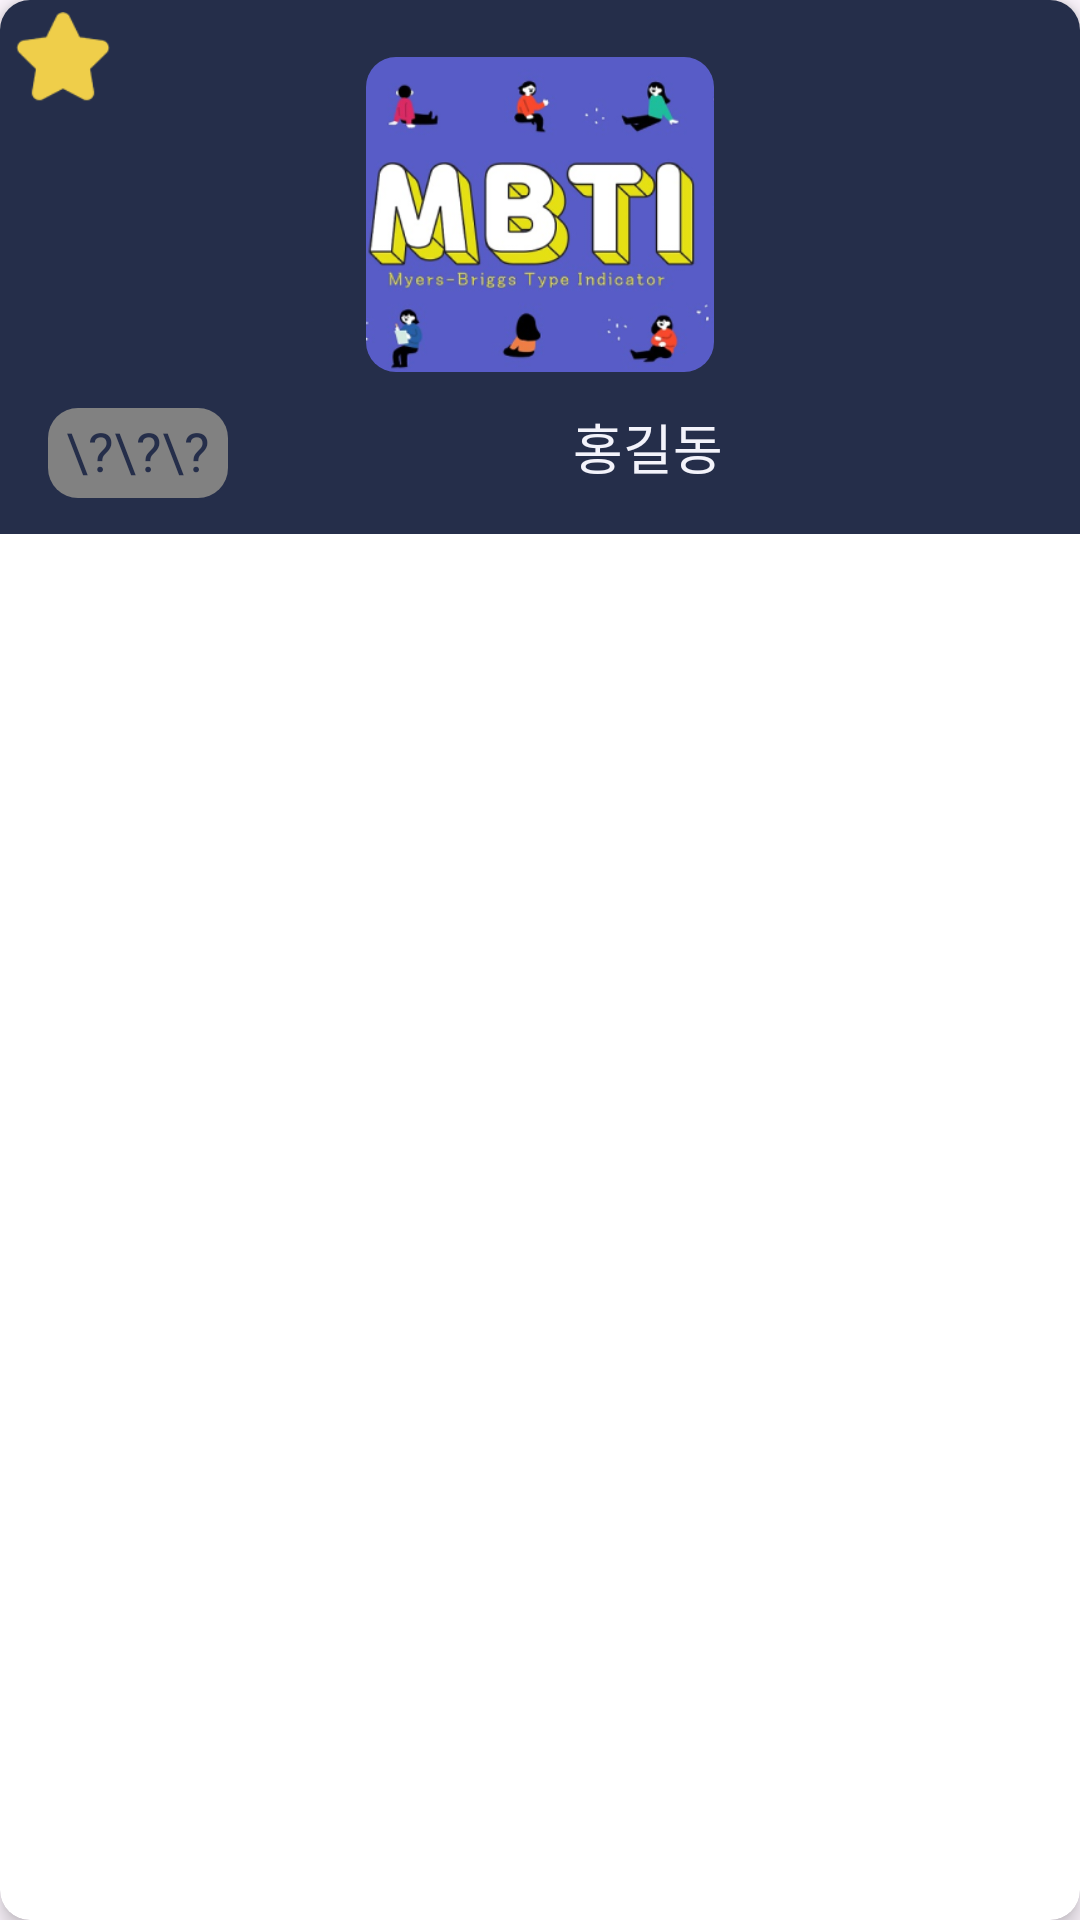

Icon click points for this 1080w x 1920h phone screenshot, format [x,y]:
star: [63,56]
